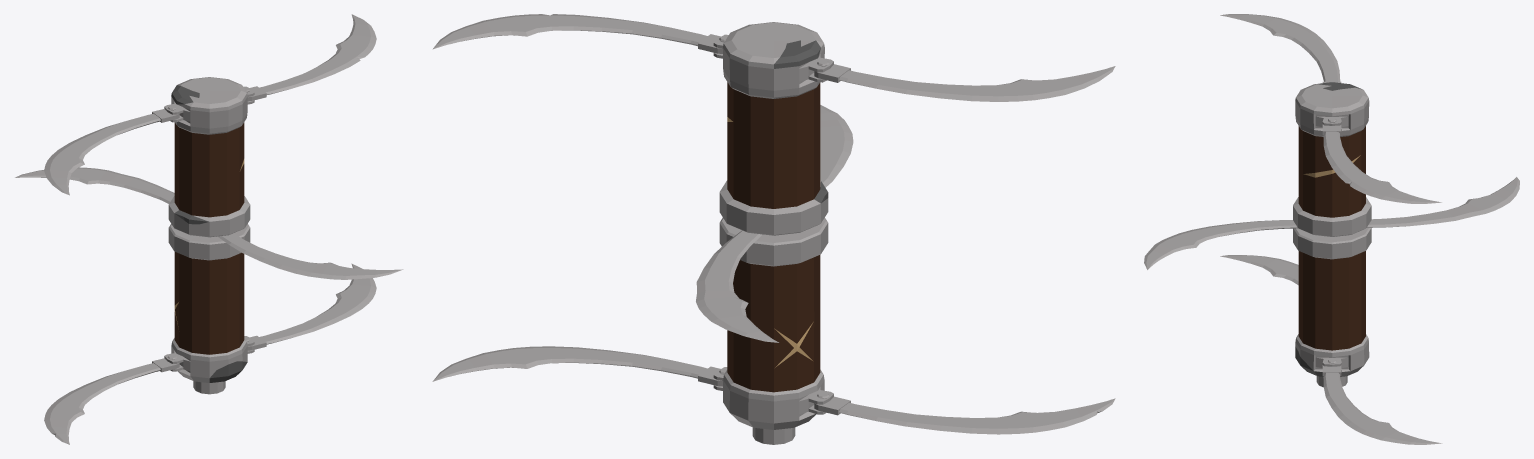
The model's file is LGEBladeSpinning_1.fbx.
3 views of the same model, side by side, from view 1: azimuth 30°, elevation 25°; view 2: azimuth 150°, elevation 25°; view 3: azimuth 270°, elevation 25° (orthographic). The views are drawn at different scales.
Parts seen in each view (by area): view 1: LGEMetalBladeSpinning, LGEMetalBladeSpinningCentre; view 2: LGEMetalBladeSpinning, LGEMetalBladeSpinningCentre; view 3: LGEMetalBladeSpinning, LGEMetalBladeSpinningCentre.
Part boxes in pixels (x1,y1,x2,y2): LGEMetalBladeSpinning: [44, 14, 376, 444]; LGEMetalBladeSpinningCentre: [15, 167, 403, 279]; LGEMetalBladeSpinning: [432, 14, 1115, 444]; LGEMetalBladeSpinningCentre: [696, 105, 853, 342]; LGEMetalBladeSpinning: [1220, 14, 1442, 444]; LGEMetalBladeSpinningCentre: [1144, 177, 1519, 269].
Bounding box in the file's own units: 281 × 198 × 235.
